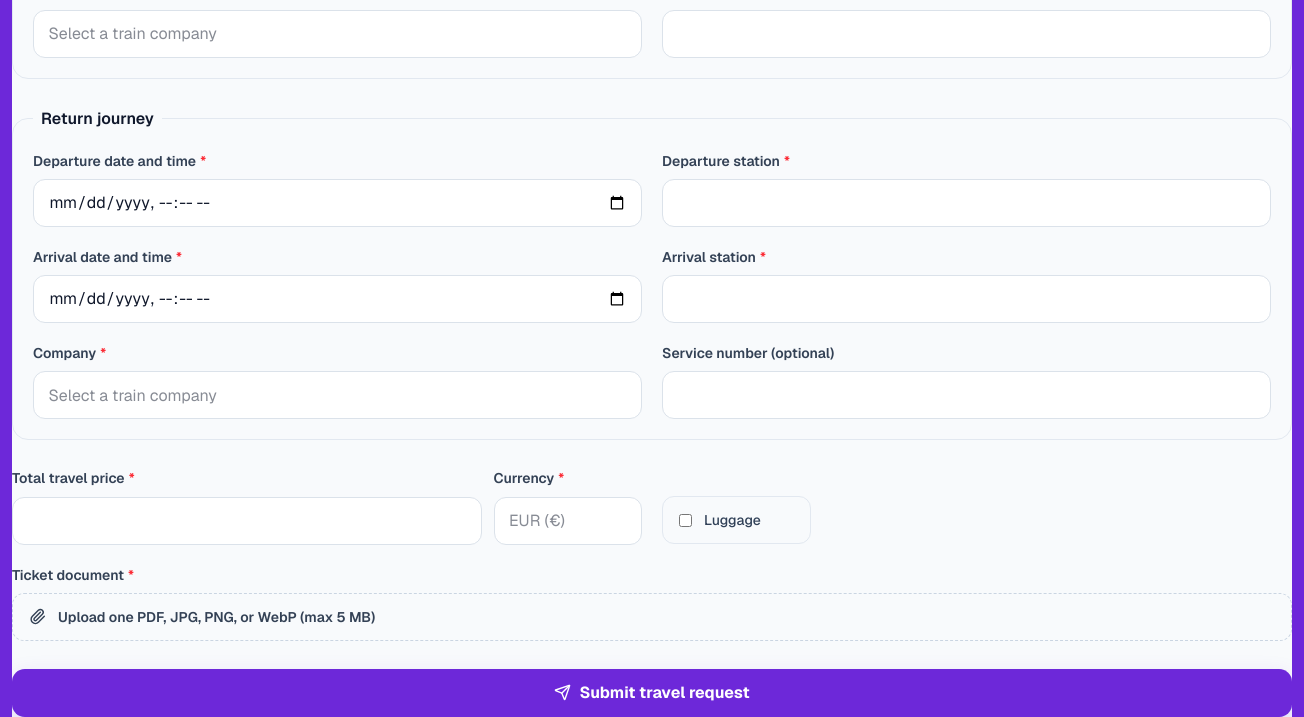
it: TravelReimbursementForm › toggles the luggage price field when the luggage checkbox is checked
(page scrolled)
Step 1. Click the checkbox labelled "Luggage" → click(686, 520), box [679,514,692,527]
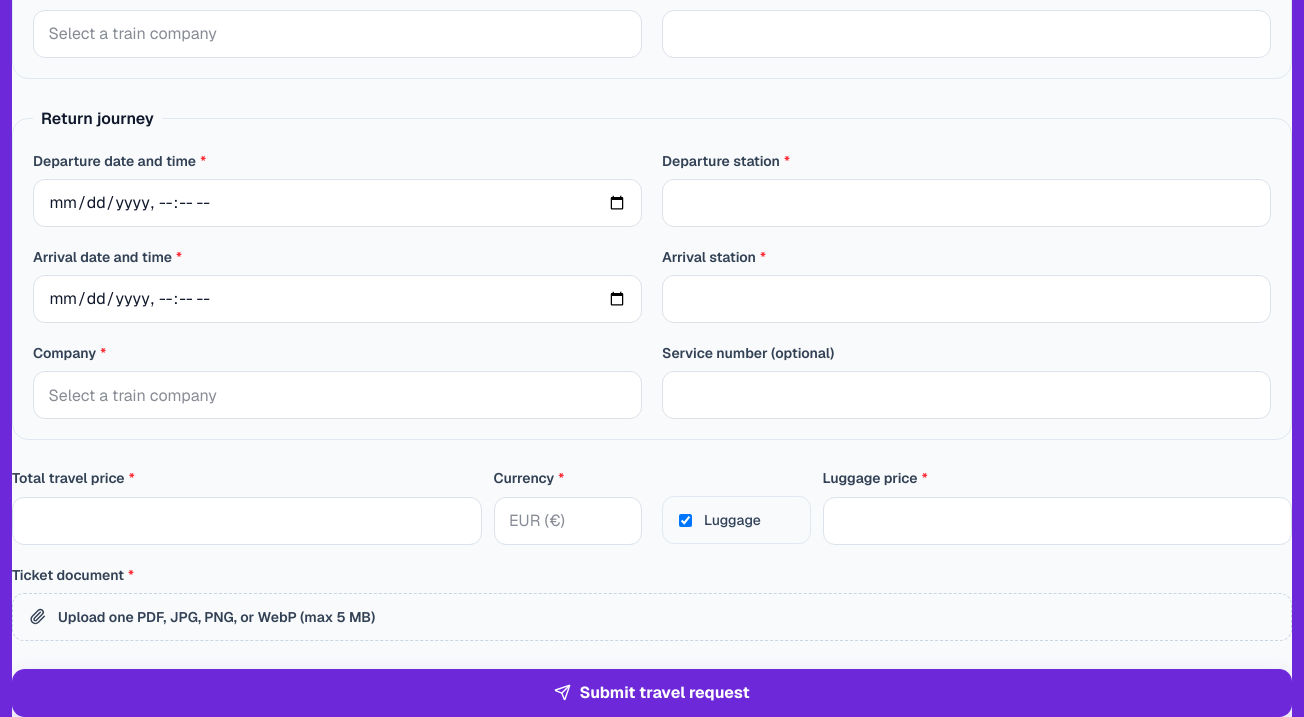
Result: the number field labelled "Luggage price*" is shown at [822,496,1292,544]
